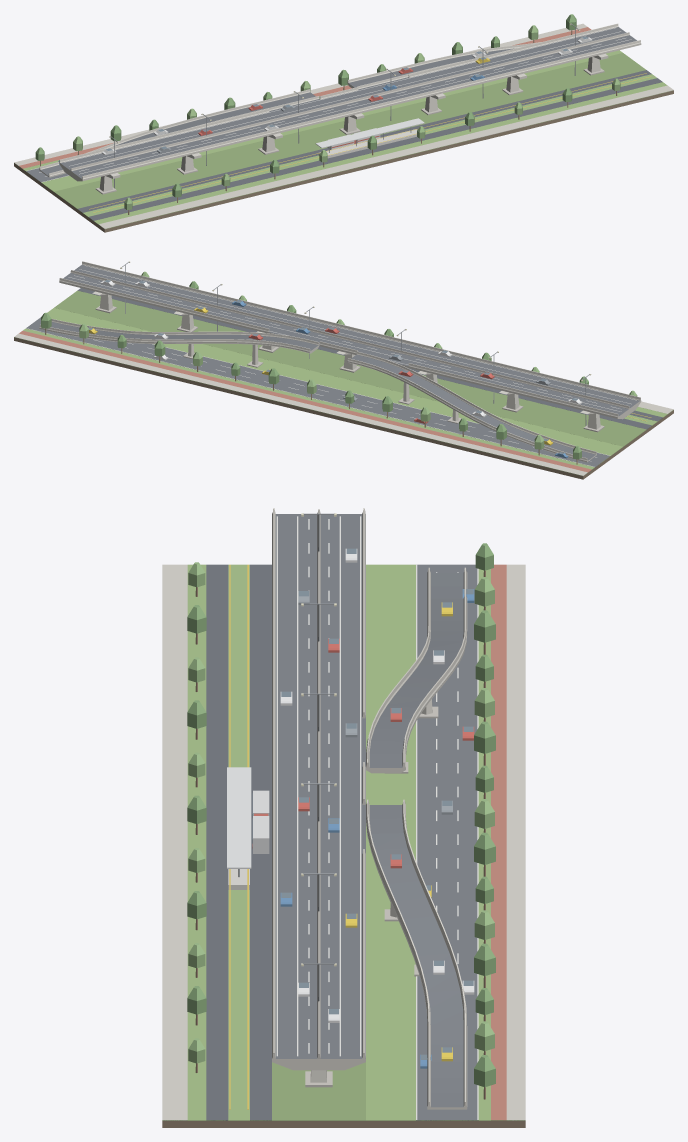
The model's file is via-expresa-tinkercad.glb.
3 renders of one model, top to bottom at view 1: azimuth 30°, elevation 25°; view 2: azimuth 150°, elevation 25°; view 3: azimuth 270°, elevation 25°, orthographic. The views are drawn at different scales.
Visible parts, largest first — view 1: ViaExpresaElevada; view 2: ViaExpresaElevada; view 3: ViaExpresaElevada.
Part boxes in pixels (box(x1,y1,x2,y2)): ViaExpresaElevada: box(14, 14, 673, 232); ViaExpresaElevada: box(14, 261, 673, 479); ViaExpresaElevada: box(162, 508, 525, 1127).
Size of the model in its own units: 210 by 18.7 by 58.
